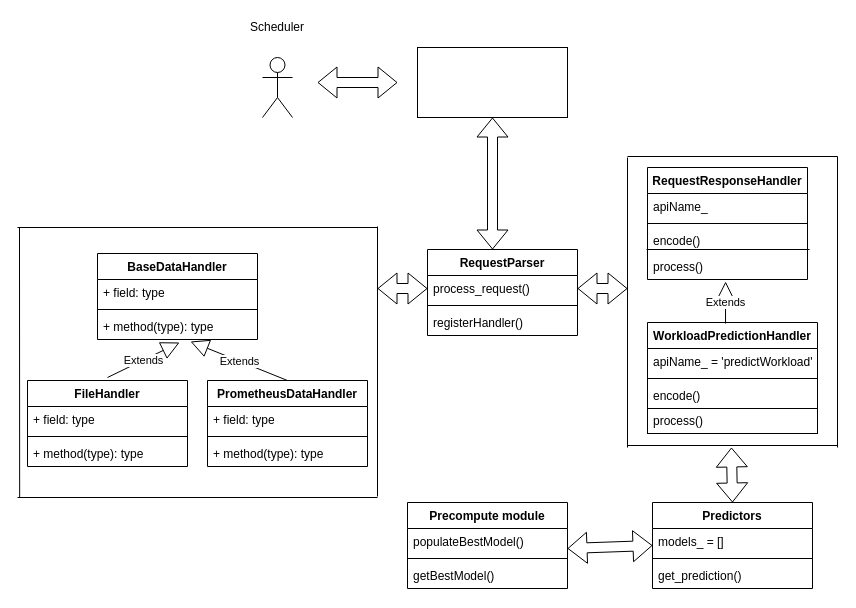
Some shapes in this 856 by 608 pixel diagram are drawn without their labels. Each missing label, with the centre of its shape:
"Actor" goes at [277,87].
"Flask API Endpoint" goes at [492,82].
